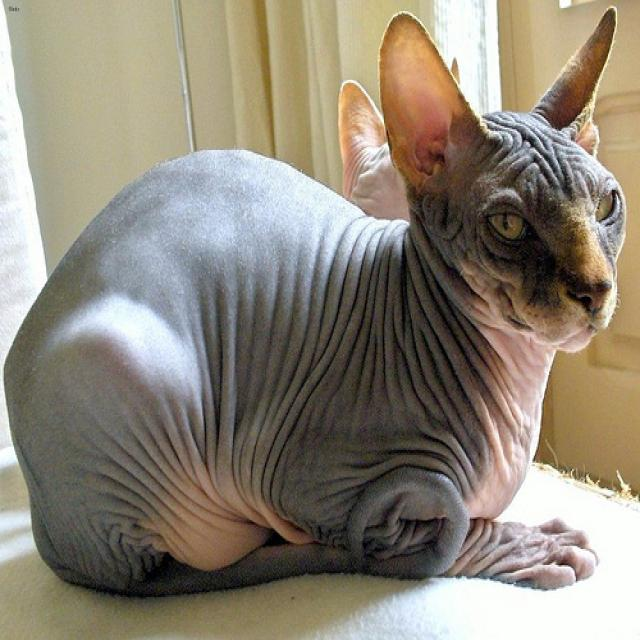cat: (378, 5, 624, 349)
